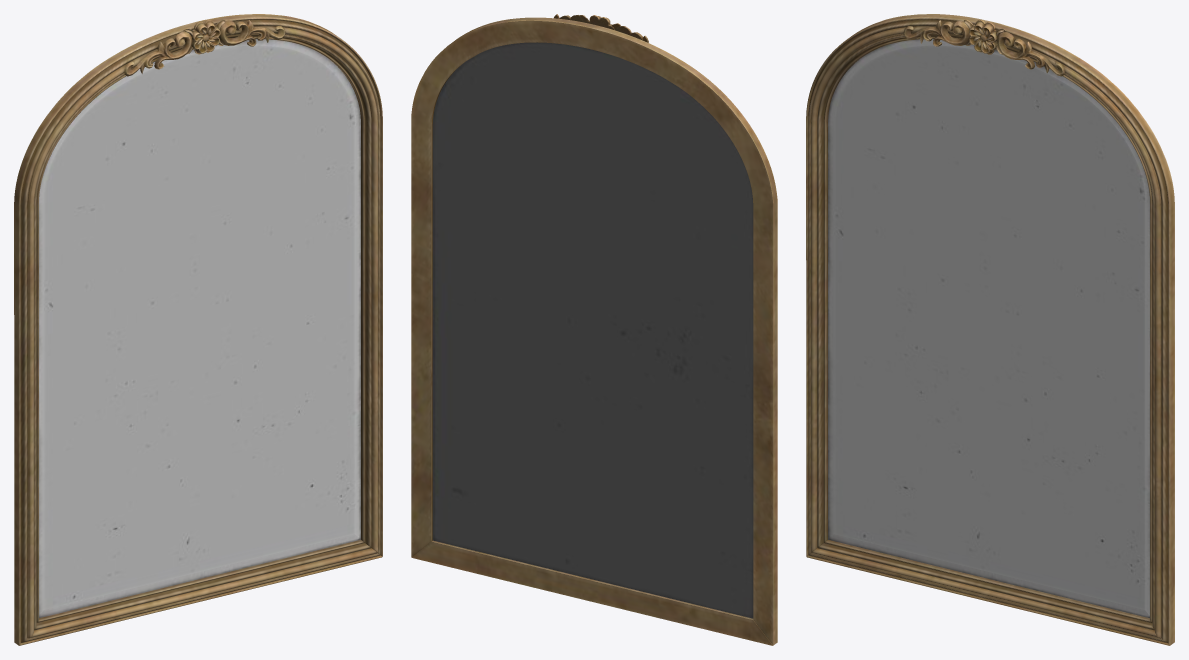
The model's file is ornate_mirror_01.glb.
The picture shows the model from 3 angles, left to right: view 1: azimuth 30°, elevation 25°; view 2: azimuth 150°, elevation 25°; view 3: azimuth 330°, elevation 25°; orthographic projection.
Parts seen in each view (by area): view 1: ornate_mirror_01; view 2: ornate_mirror_01; view 3: ornate_mirror_01.
Part boxes in pixels (bbox=[...]): ornate_mirror_01: bbox=[14, 14, 382, 645]; ornate_mirror_01: bbox=[411, 14, 777, 645]; ornate_mirror_01: bbox=[806, 14, 1174, 645].
Size of the model in its own units: 0.4865 by 0.7442 by 0.0259.
1 material, 1 textured.
